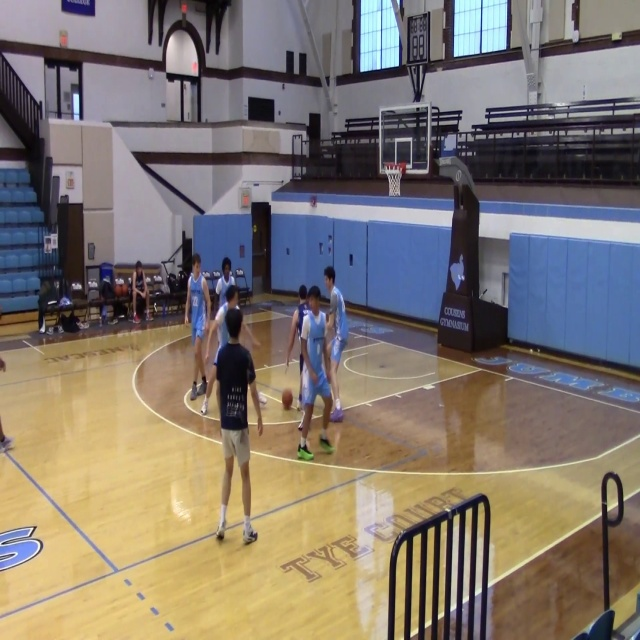Basketball: (282, 388, 293, 408), (258, 394, 267, 404)
